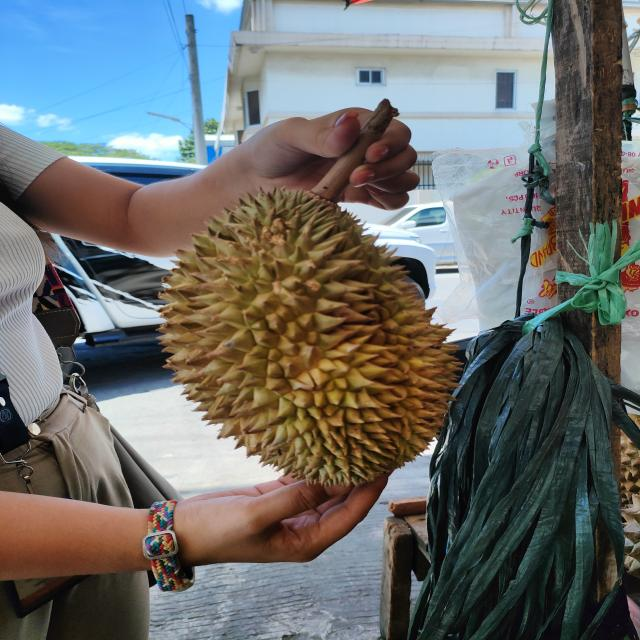mature: (157, 187, 465, 488)
